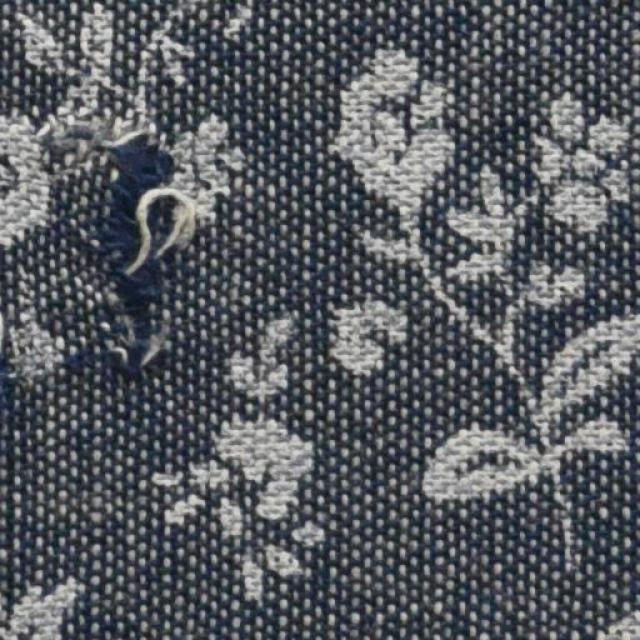Snag: (47, 83, 205, 375)
